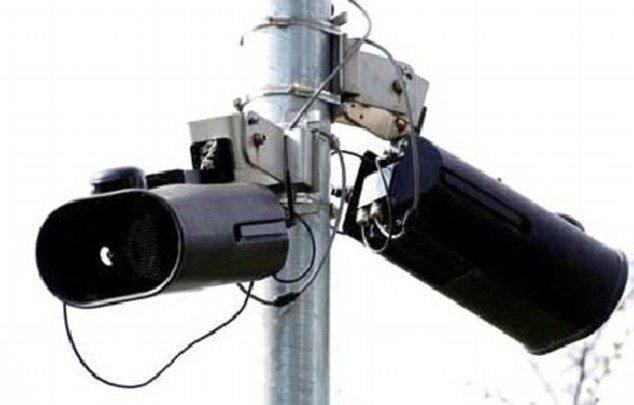Monitor: (344, 82, 628, 367), (34, 165, 289, 309)
